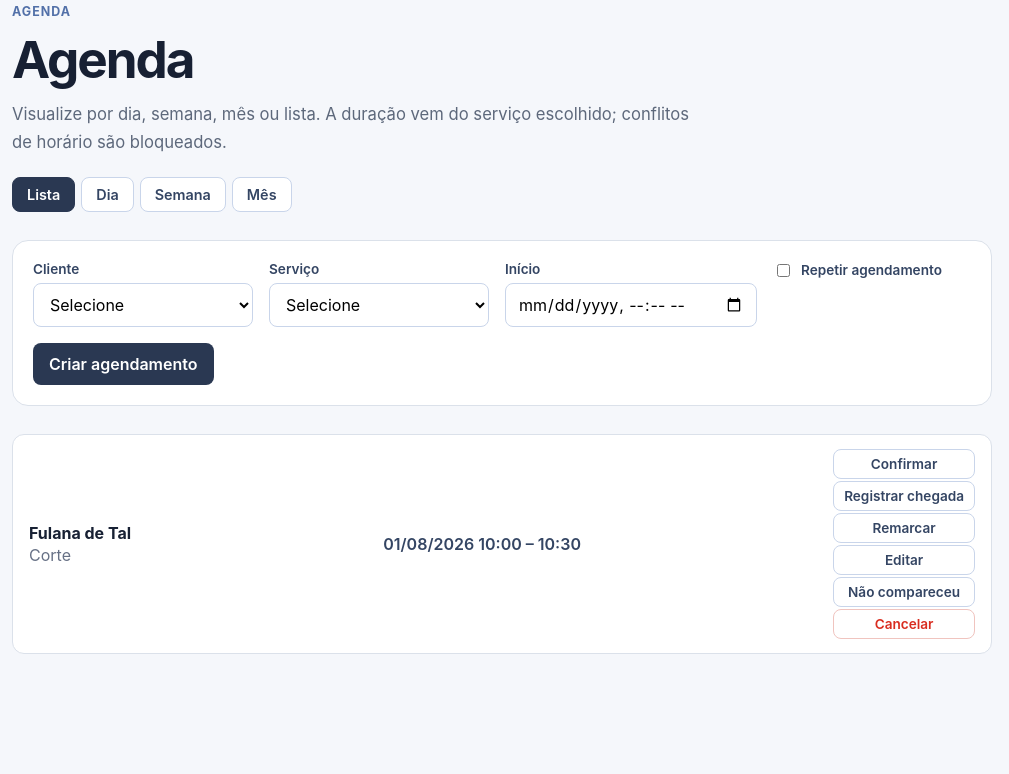
Test case: AgendaPageComponent › edits an appointment changing its client and service
Click the button with class "link-button" showing "Editar" at point(904, 560), box [833, 545, 975, 575]
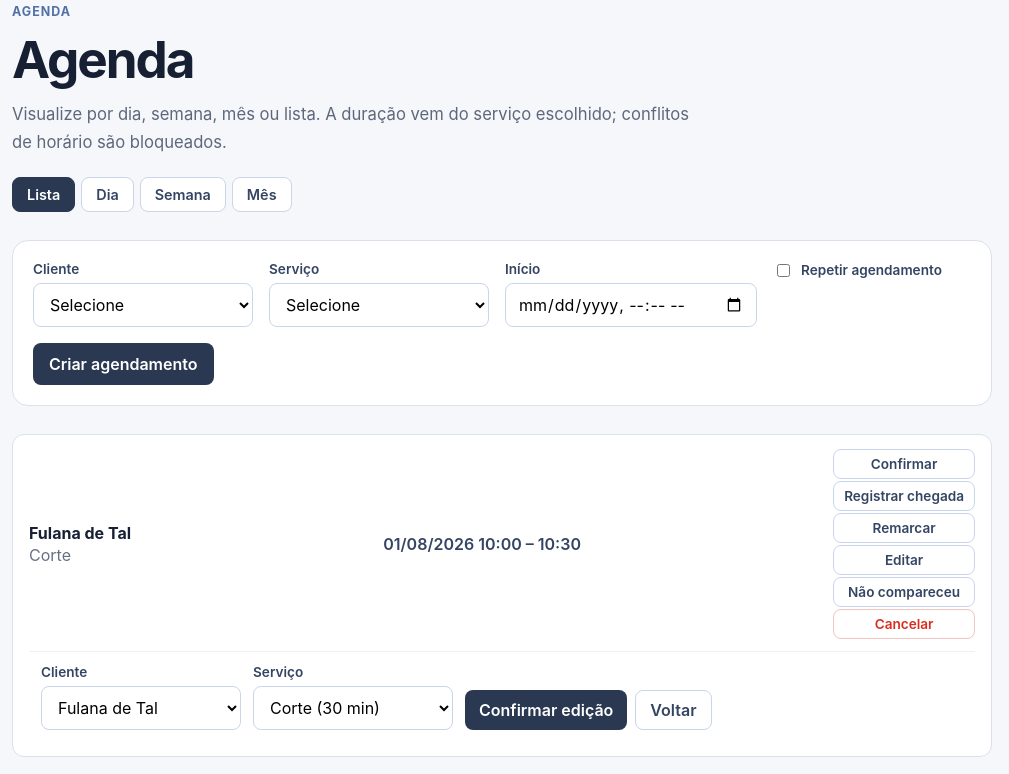
Check: the dropdown named "clientId" shows "Fulana de Tal"
Select "Beltrana da Silva" in the dropdown named "clientId" at point(141, 708), box [41, 686, 241, 730]
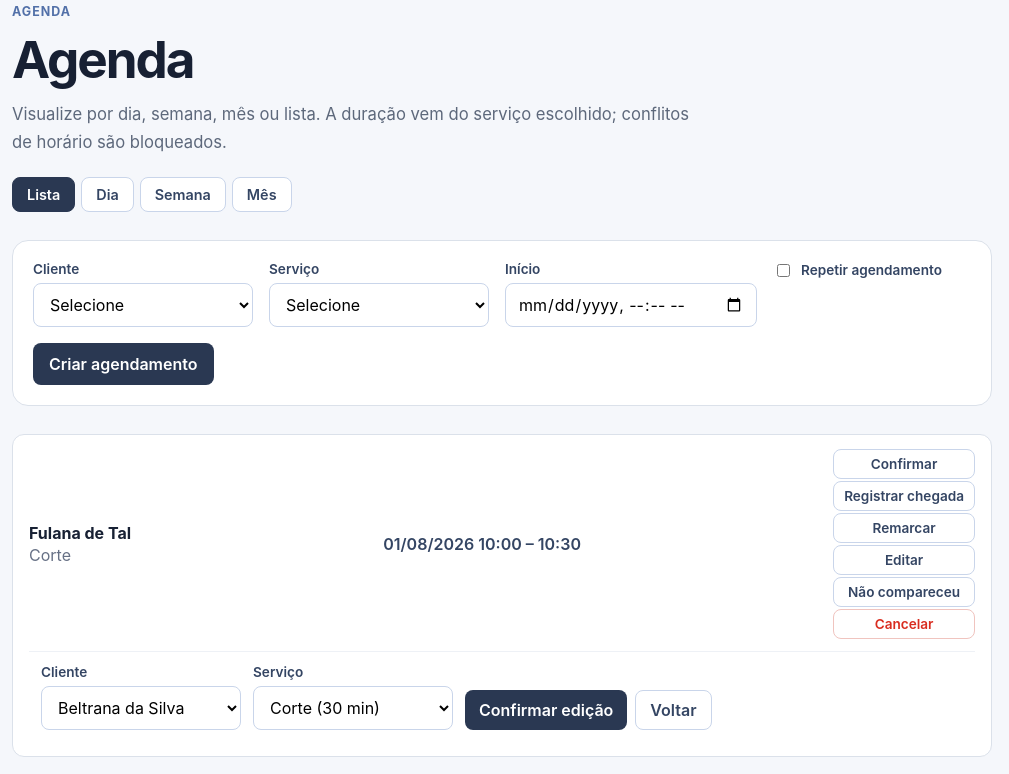
Check: the dropdown named "serviceId" shows "Corte (30 min)"
Select "Coloração (90 min)" in the dropdown named "serviceId" at point(353, 708), box [253, 686, 453, 730]
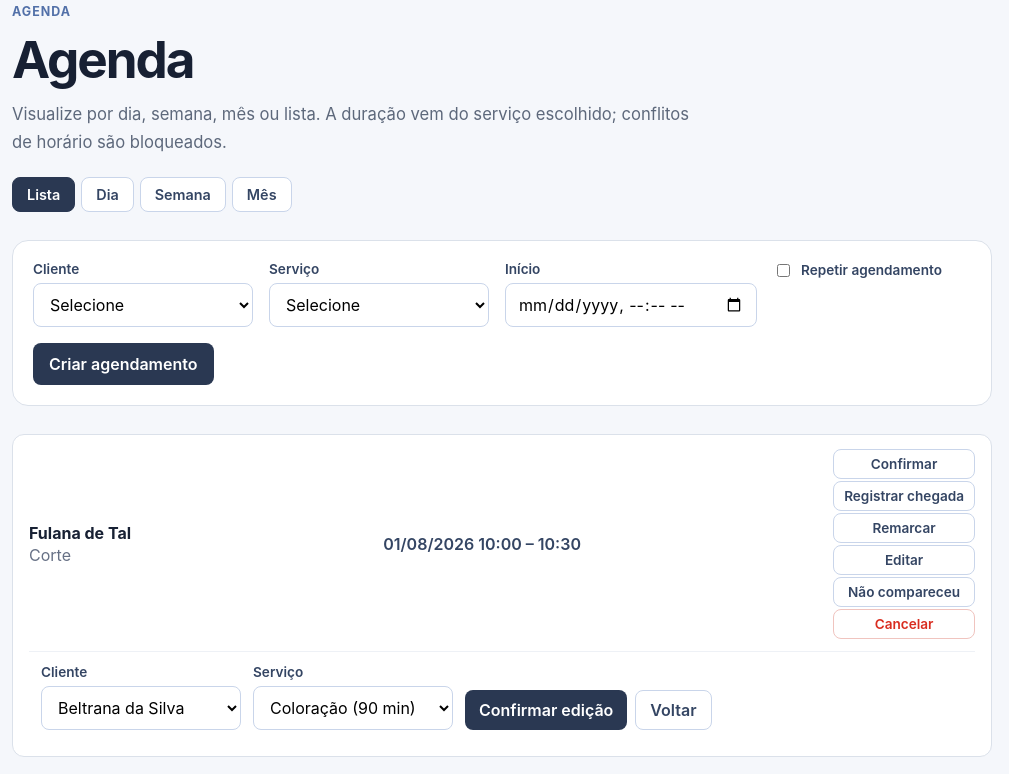
Submit the form with class "row-form", box [29, 651, 975, 742]
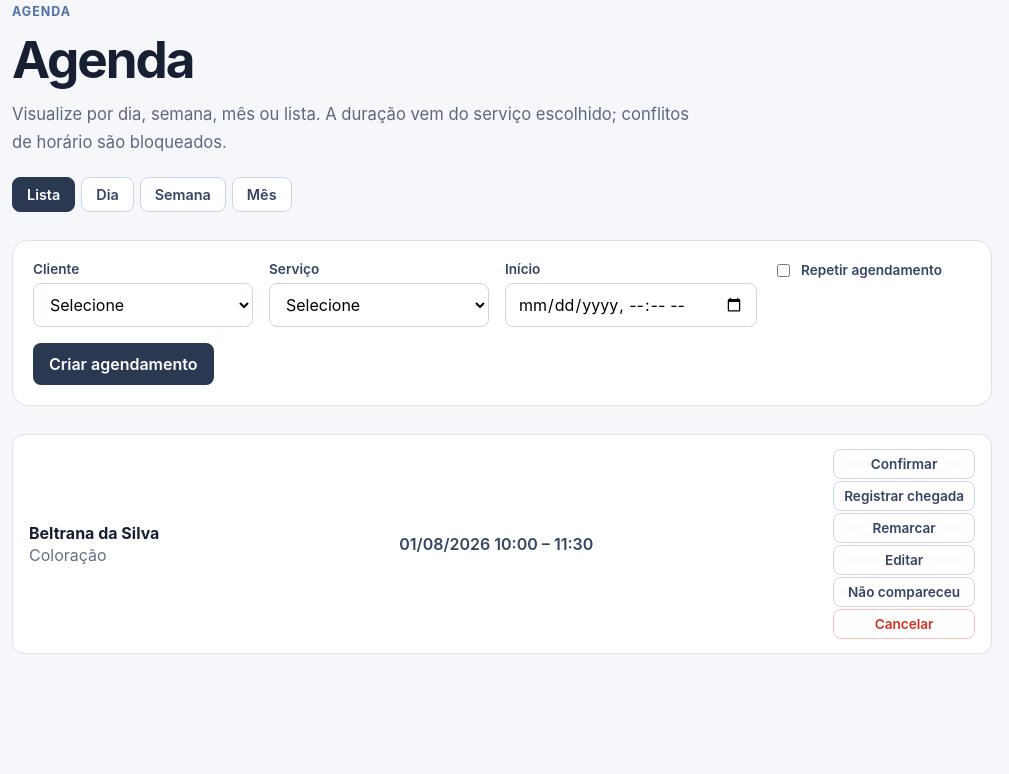
Check: the text "Beltrana da Silva" is shown, box [29, 523, 159, 543]
Check: the text "Coloração" is shown, box [29, 545, 107, 565]
